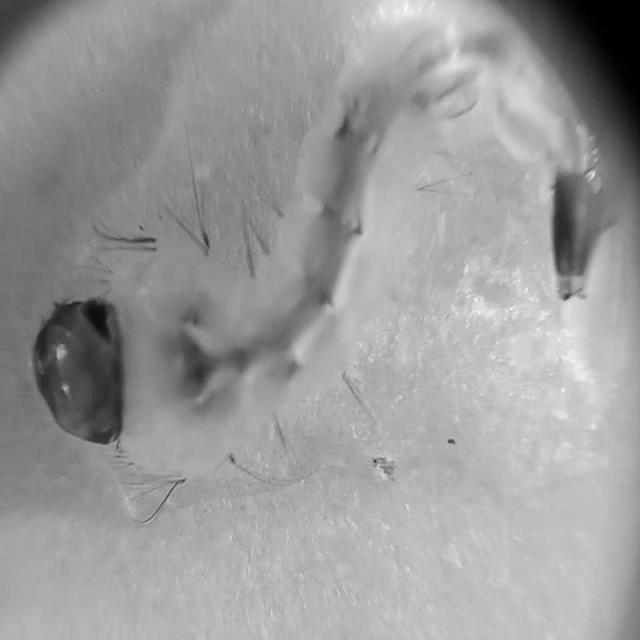larvas: (40, 5, 598, 473)
